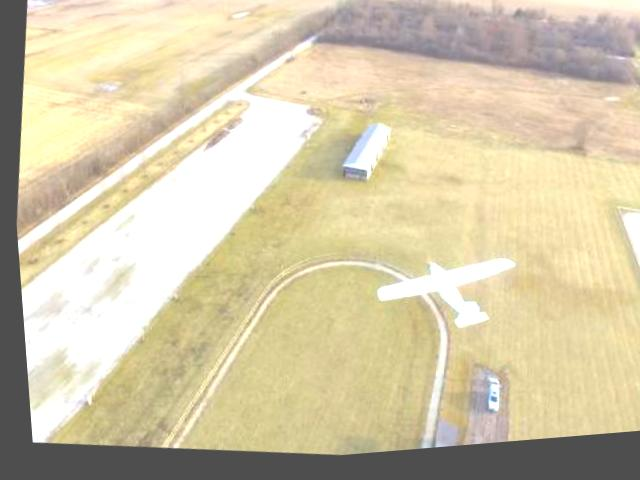uav: (357, 236, 522, 353)
